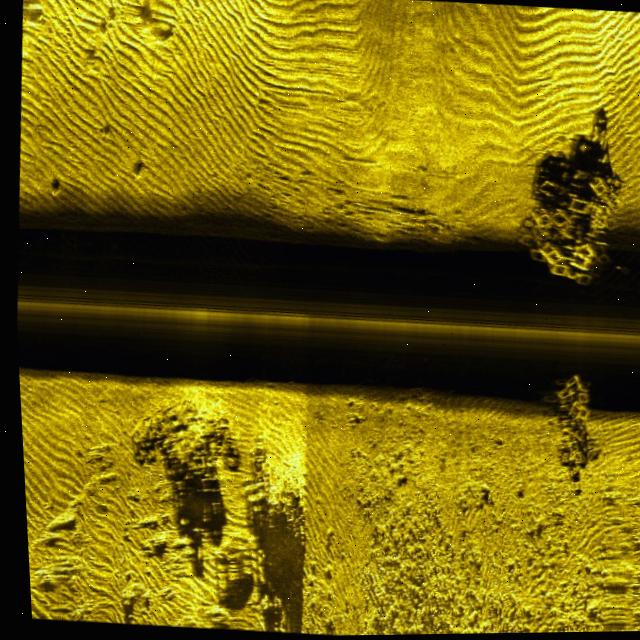artificial reef: (506, 159, 633, 297), (549, 372, 595, 473)
